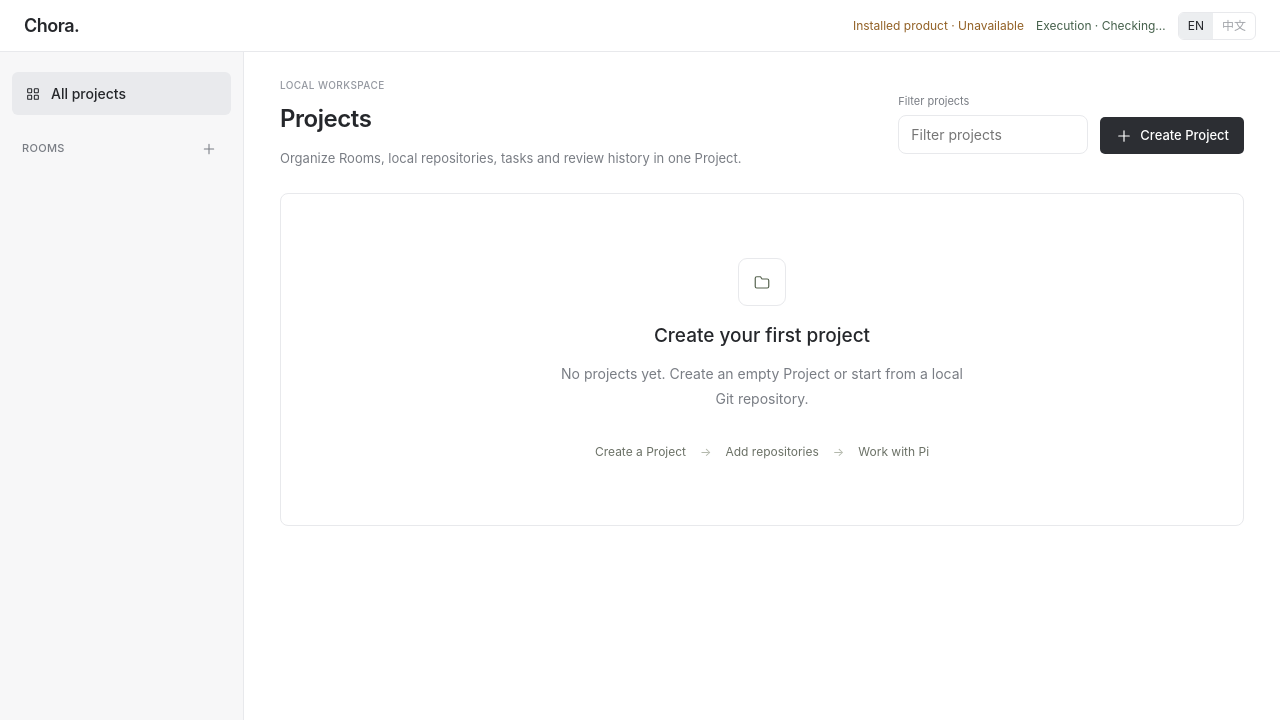
Test: NewApp › shows the Project home and creates a raw Room through the sidebar
Expected: the text "No projects yet" is shown, [561,365,963,407]
Click the button named "New Room".
click(208, 148)  # box [195,135,221,161]
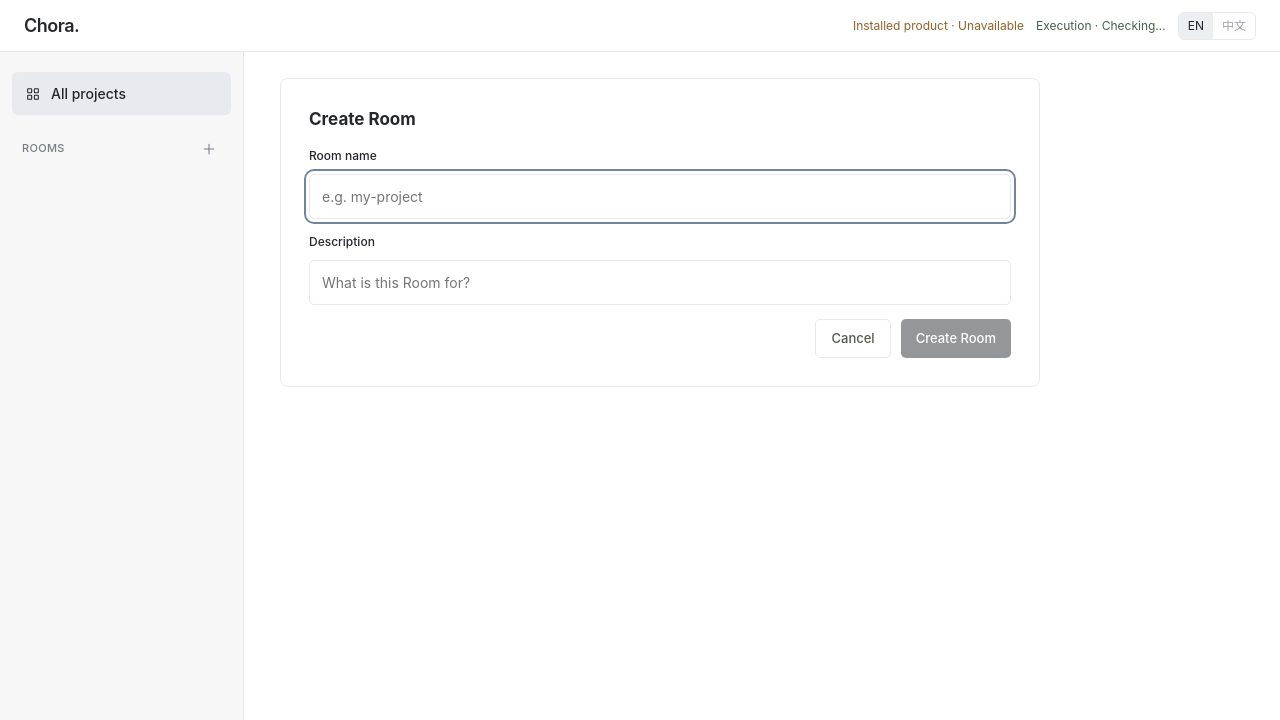
Type "Lane Room" into the field labelled "Room name".
click(660, 196); type("Lane Room")  # box [309,174,1011,218]
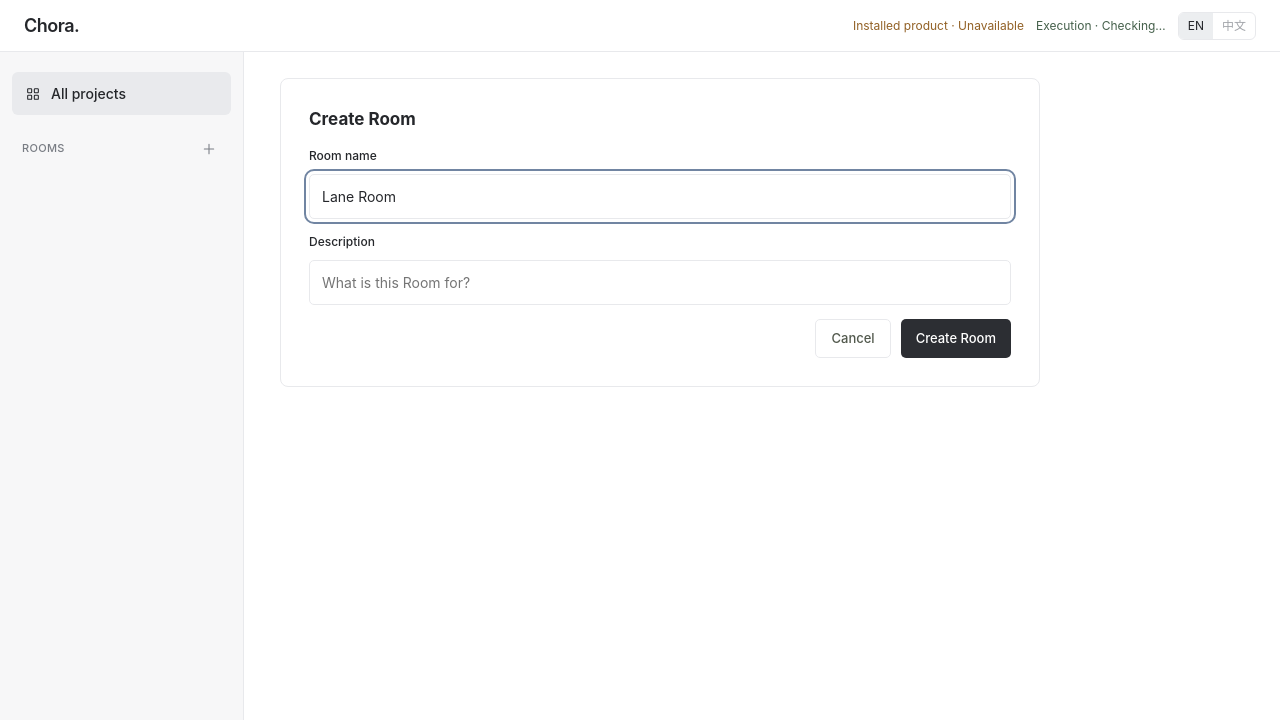
Click the button "Create Room".
click(956, 338)  # box [901,318,1011,358]
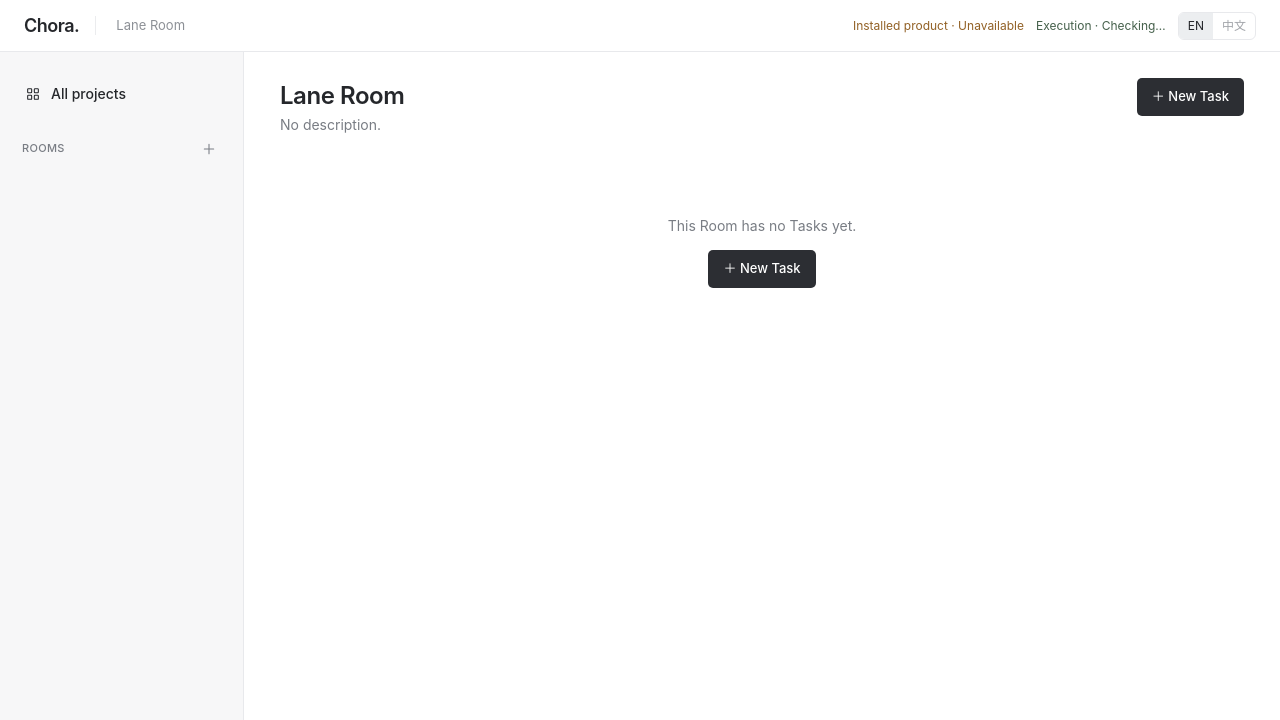
Result: the text "This Room has no Tasks yet." is shown at [668,217,856,234]
